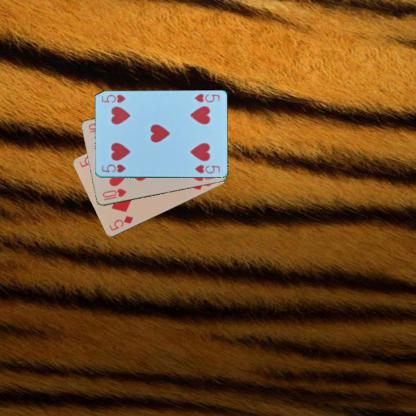10h: (100, 186, 128, 202)
5d: (106, 213, 135, 232)
5h: (192, 92, 221, 104), (100, 162, 126, 174)
